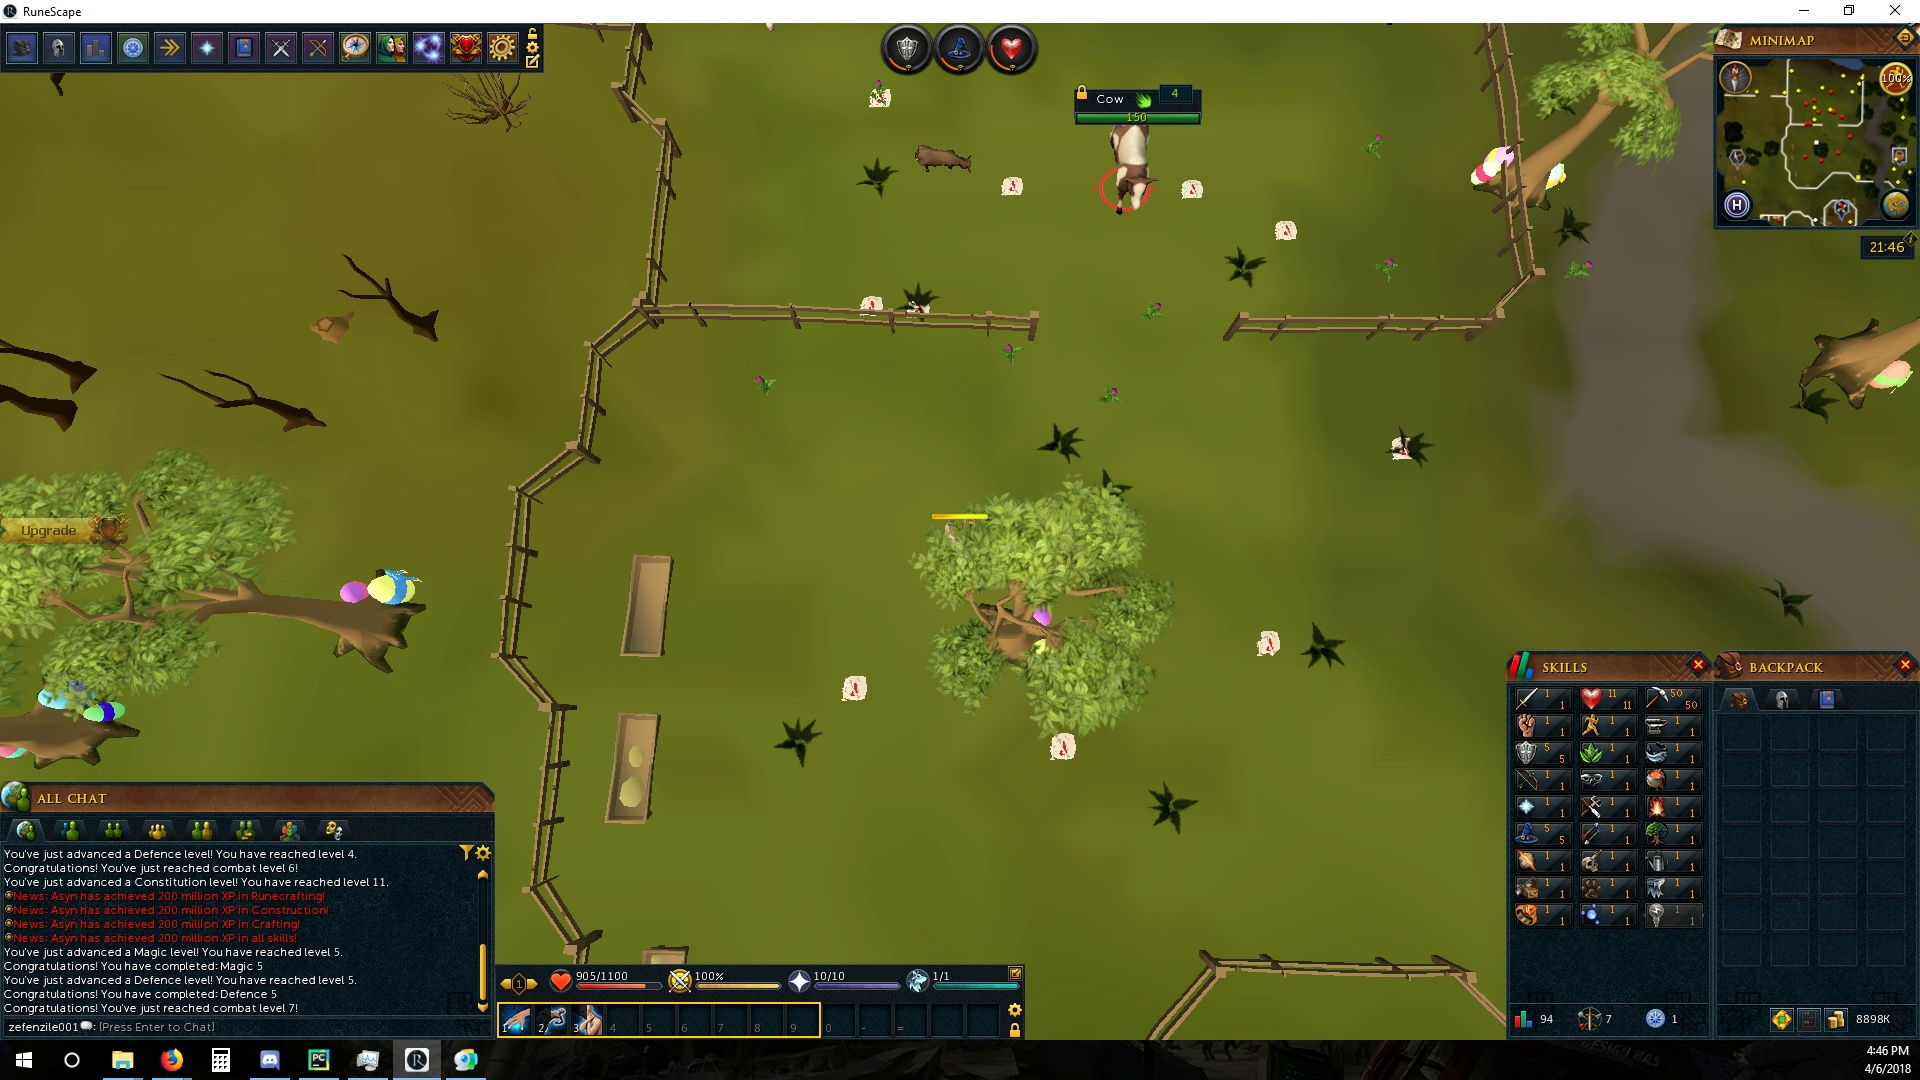calf: (910, 140, 980, 175)
cow: (1101, 121, 1164, 219)
cow_drop: (1389, 429, 1422, 462), (1269, 214, 1302, 244), (1048, 732, 1079, 764), (837, 675, 873, 702), (1254, 626, 1280, 659), (868, 84, 895, 115), (856, 291, 885, 315), (1178, 178, 1207, 200), (998, 175, 1026, 196)
